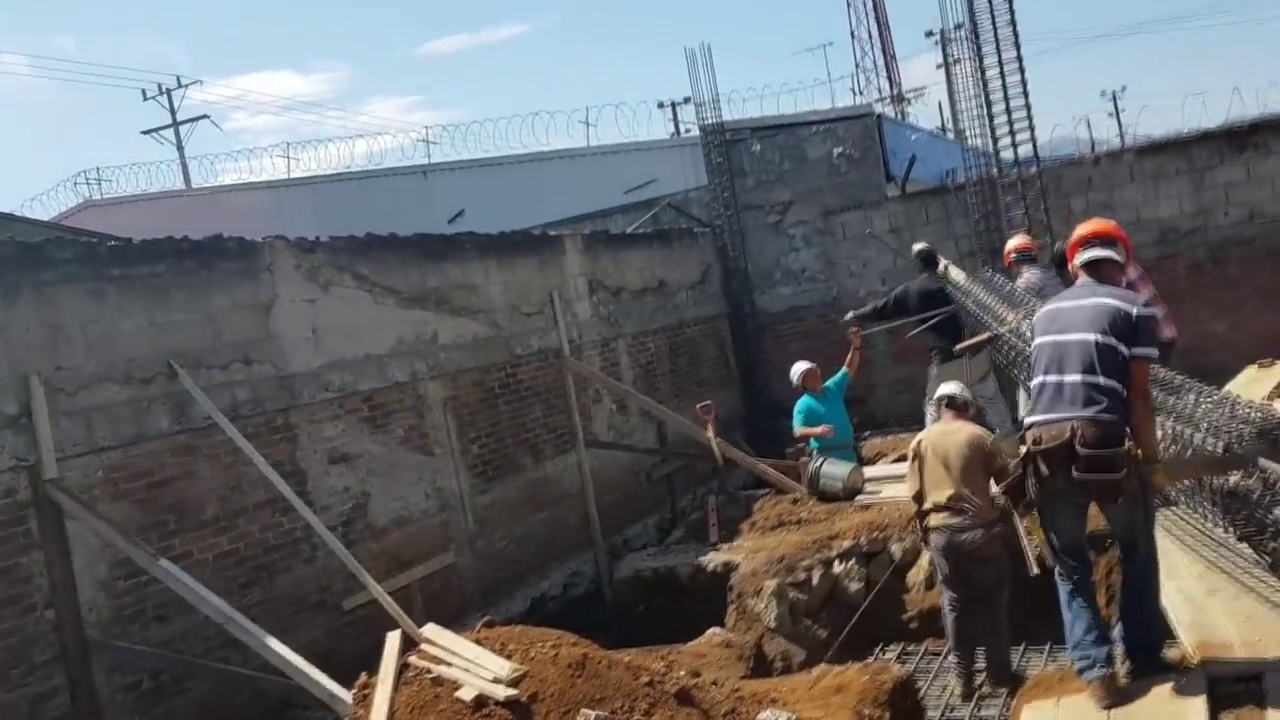helmet: (1067, 219, 1134, 274), (930, 376, 977, 409), (1003, 235, 1039, 267), (789, 358, 817, 390)
helmet-off: (909, 240, 946, 283)
helmet-on: (1068, 220, 1133, 292), (930, 381, 976, 429), (1003, 234, 1039, 279), (788, 358, 825, 398)
person: (1020, 218, 1167, 707), (843, 239, 1020, 459), (912, 380, 1031, 700), (788, 327, 865, 484), (1002, 233, 1064, 305)
